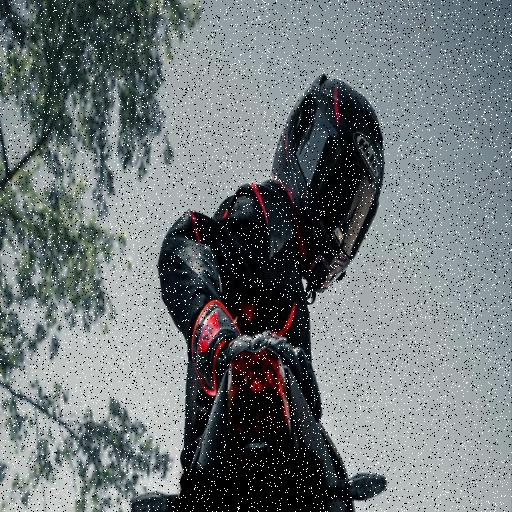Helmet: (266, 69, 388, 289)
